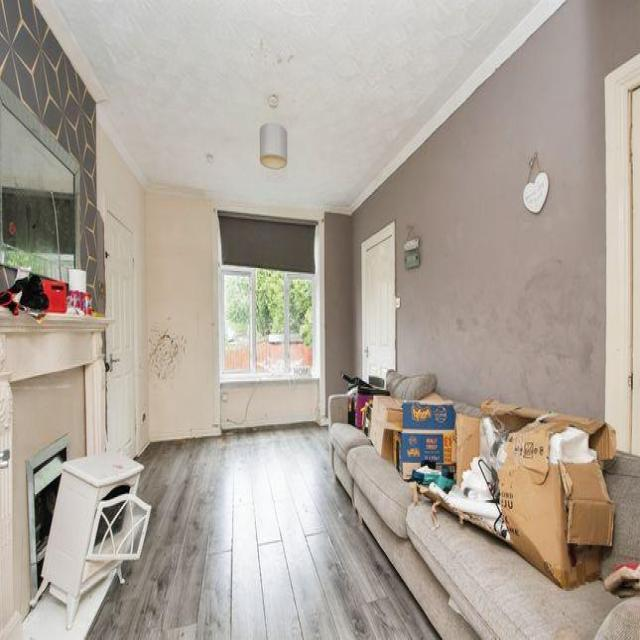Wall: (356, 0, 640, 415), (52, 1, 539, 203), (89, 426, 438, 639), (98, 124, 220, 453), (0, 0, 104, 310), (325, 212, 355, 397), (221, 382, 319, 428), (351, 212, 362, 374)
